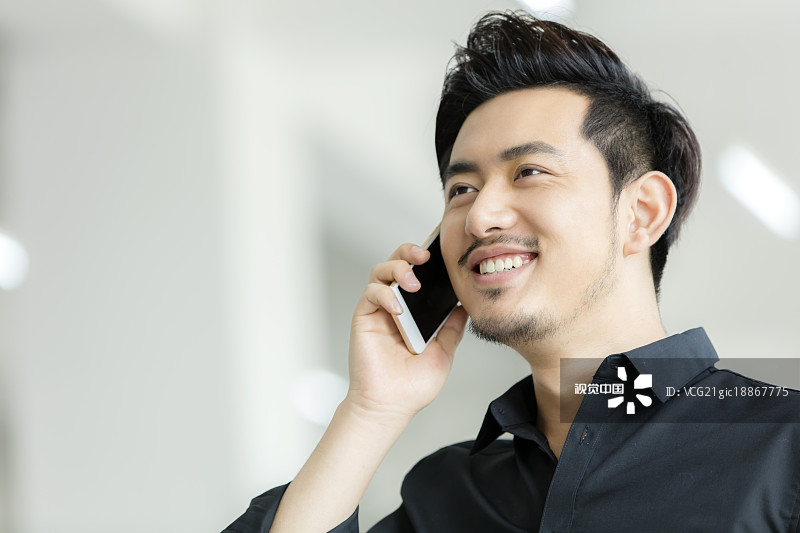calling: (325, 203, 491, 447)
